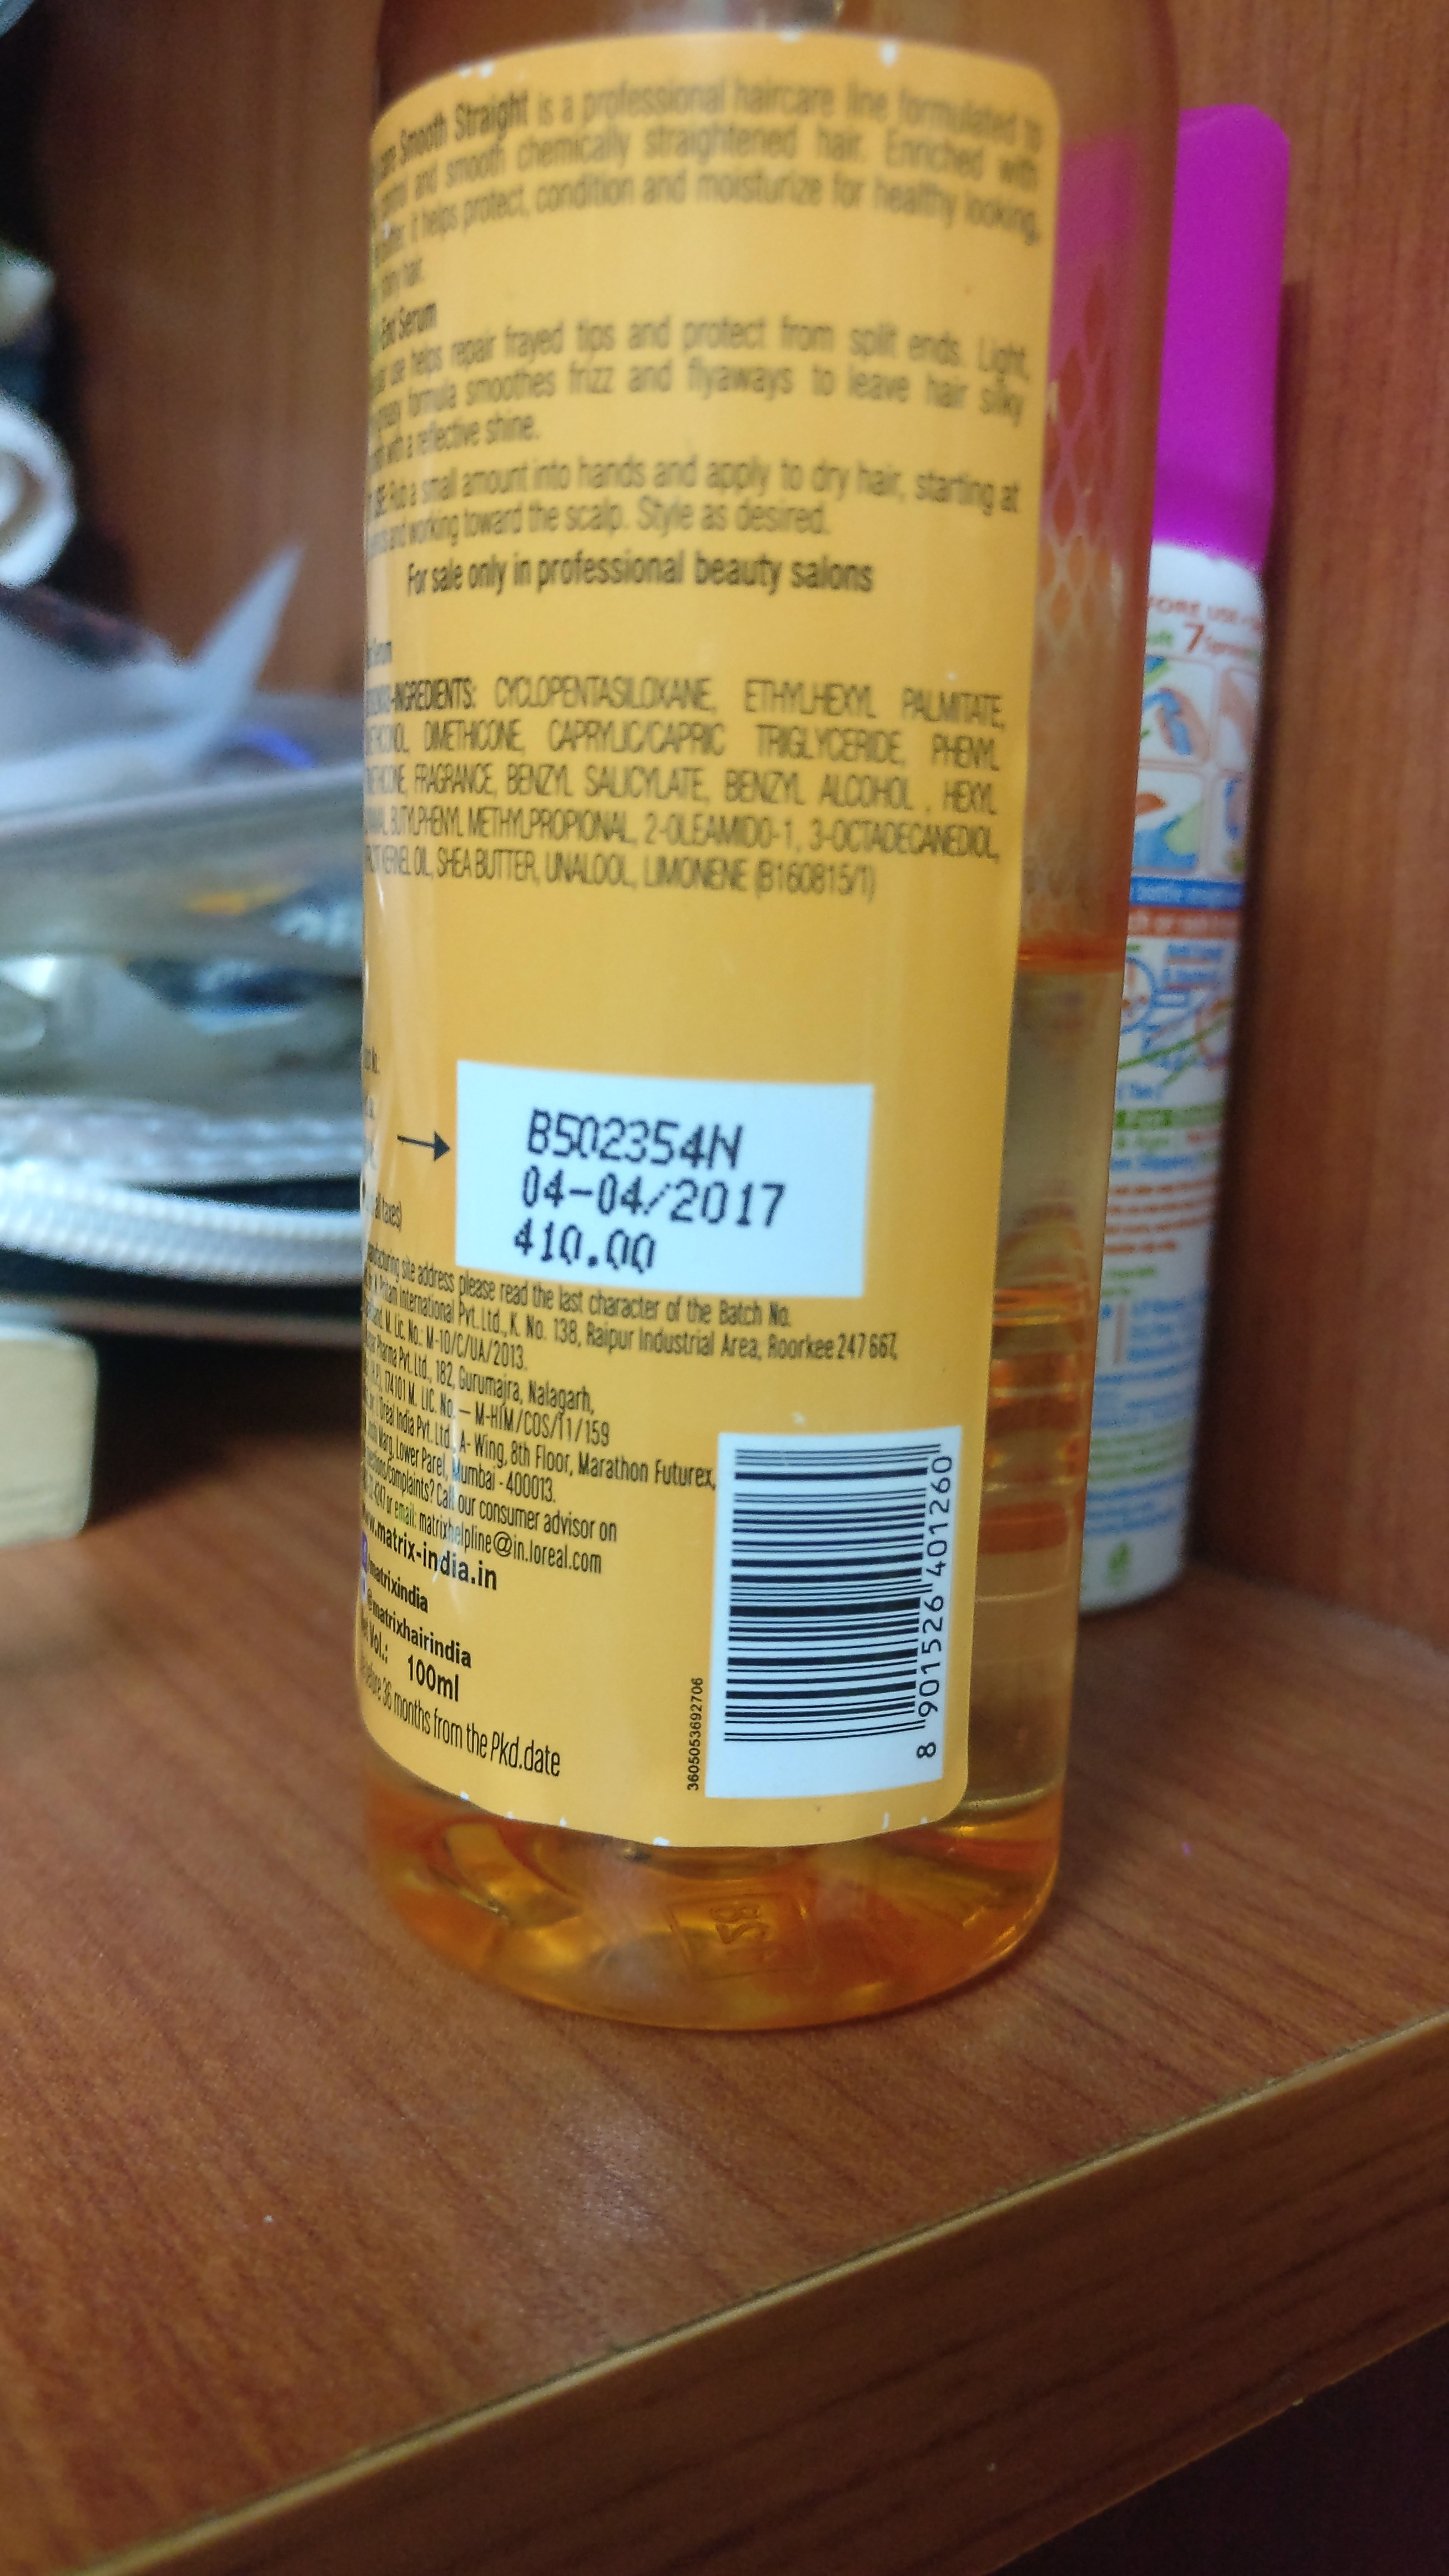barcode: (715, 1465, 961, 1787)
